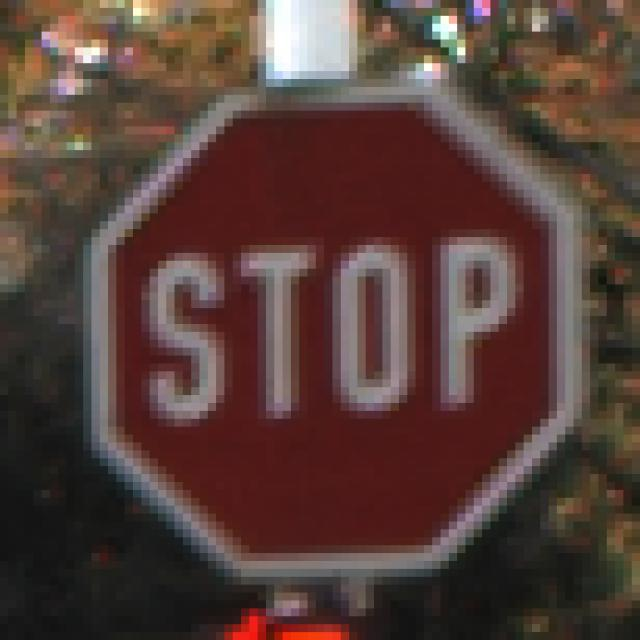STOP: (59, 56, 583, 578)
